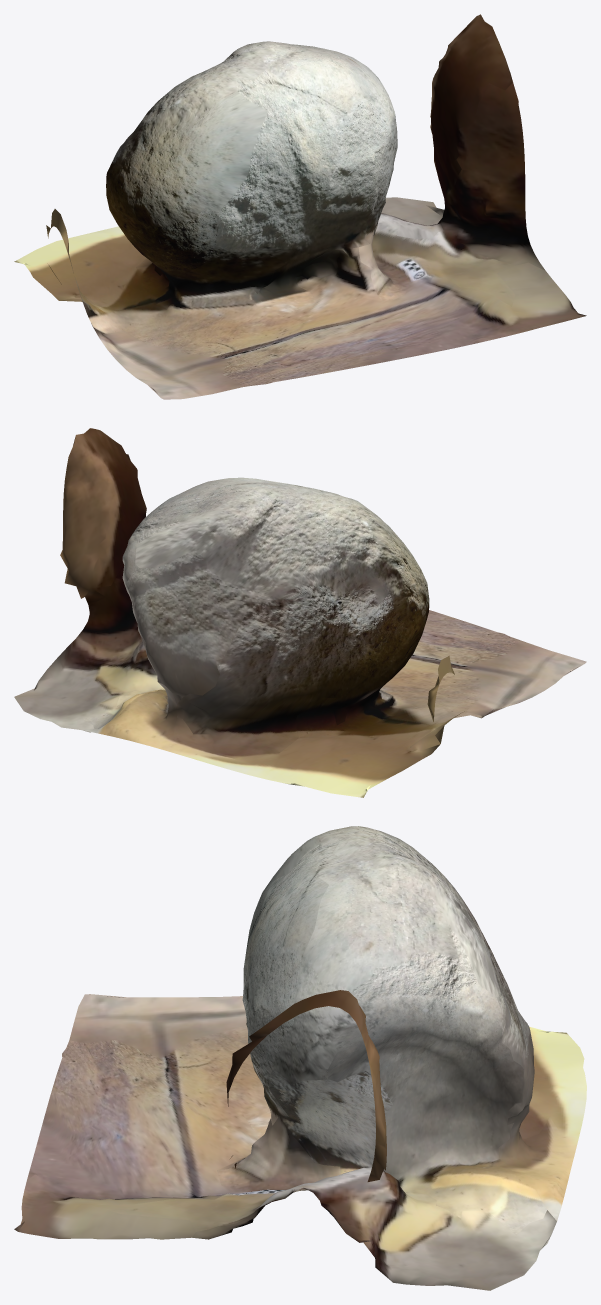
3 renders of one model, top to bottom at view 1: azimuth 30°, elevation 25°; view 2: azimuth 150°, elevation 25°; view 3: azimuth 270°, elevation 25°, orthographic. The views are drawn at different scales.
Parts seen in each view (by area): view 1: Object; view 2: Object; view 3: Object.
Boxes of the visible parts, box(x1,y1,x2,y2) form: Object: box(14, 14, 586, 399); Object: box(14, 428, 586, 797); Object: box(14, 826, 586, 1290).
Size of the model in its own units: 1.07 by 0.5592 by 0.9733.
1 material, 1 textured.
